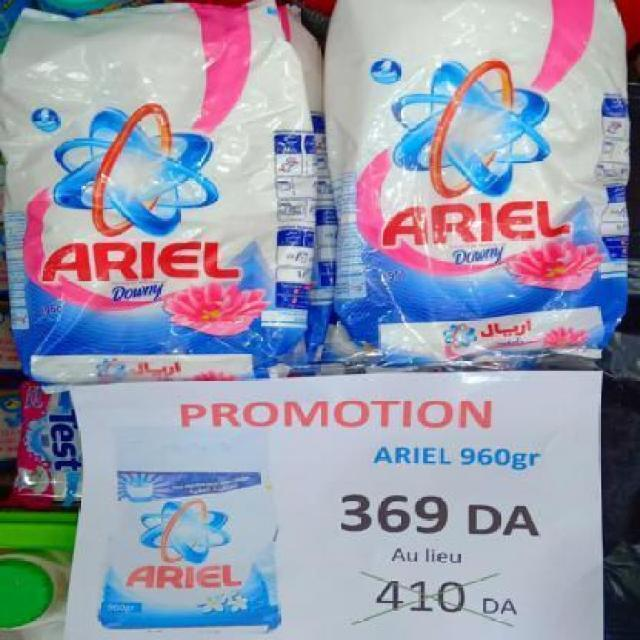Detergent: (316, 0, 628, 352)
